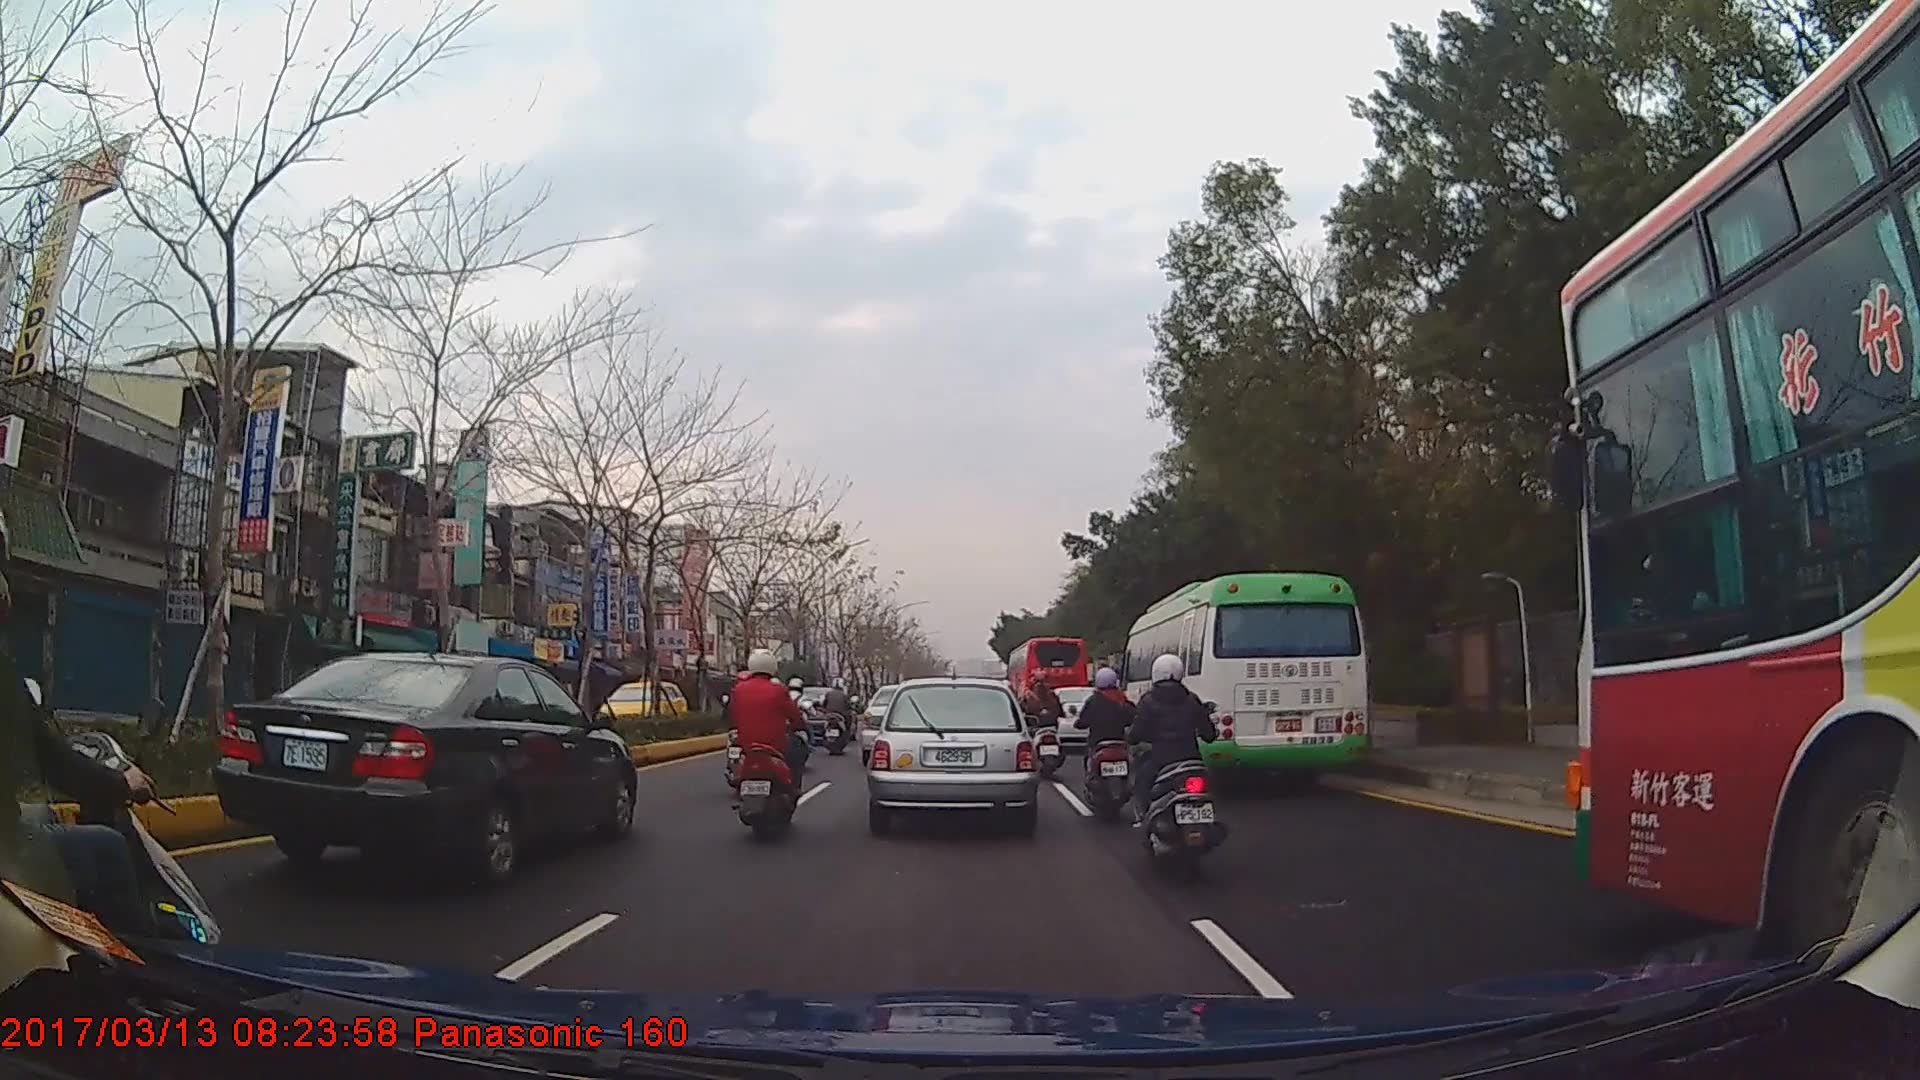rider: (1, 497, 222, 1011), (1133, 651, 1226, 884), (723, 645, 801, 845), (1072, 665, 1141, 822), (1025, 670, 1068, 782), (824, 677, 862, 756)
vehicle: (1554, 0, 1920, 984), (216, 651, 638, 881), (1121, 573, 1372, 789), (868, 675, 1037, 832), (1007, 634, 1090, 730), (594, 672, 695, 734)
